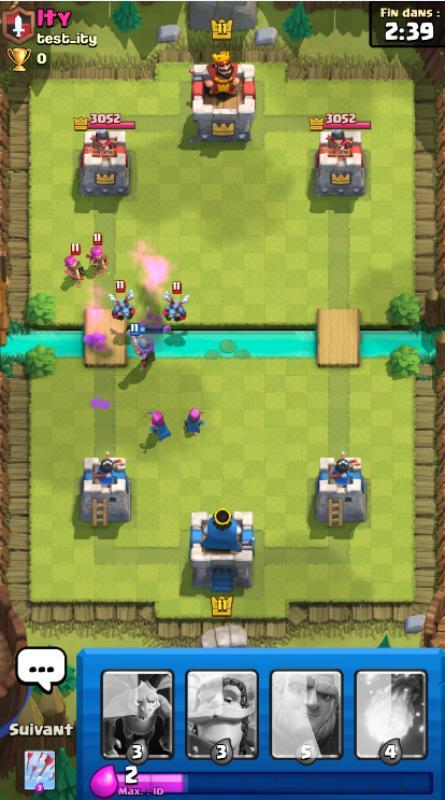archere: (85, 232, 110, 278), (61, 243, 87, 287), (143, 404, 172, 441), (183, 406, 206, 436)
gargouille: (161, 281, 190, 323), (108, 280, 137, 321)
mousquetaire: (128, 322, 165, 372)
